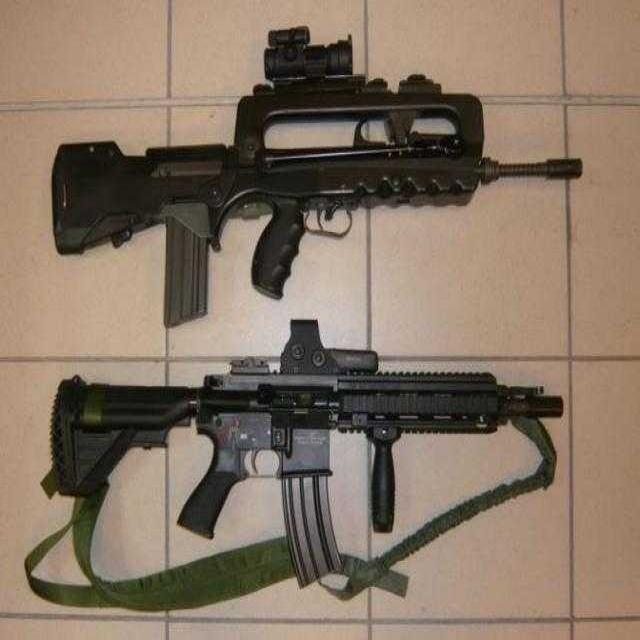weapon: (57, 35, 620, 326), (47, 346, 582, 588)
